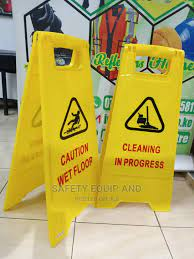wet caution sign: (12, 35, 102, 226), (110, 21, 175, 219)
